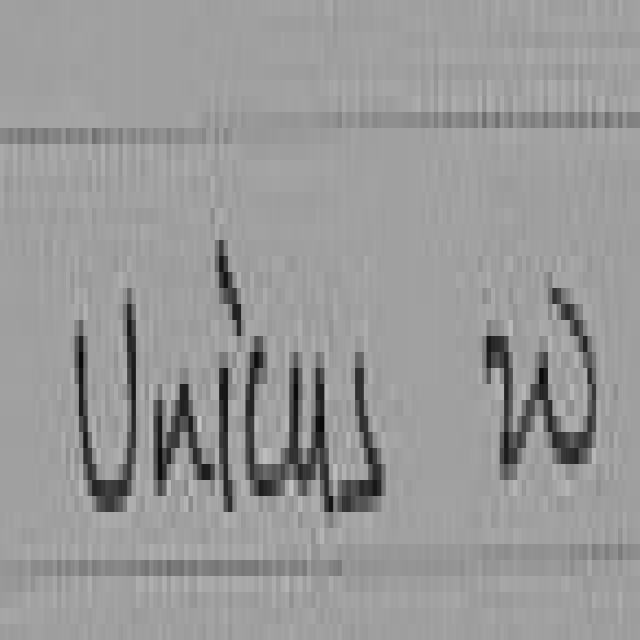0: (540, 288, 601, 464)
2: (487, 336, 535, 472)
U: (79, 304, 136, 512)
c: (250, 352, 285, 496)
i: (219, 368, 237, 512), (219, 240, 245, 336)
n: (158, 384, 215, 488)
s: (342, 352, 386, 504)
u: (289, 368, 338, 512)
